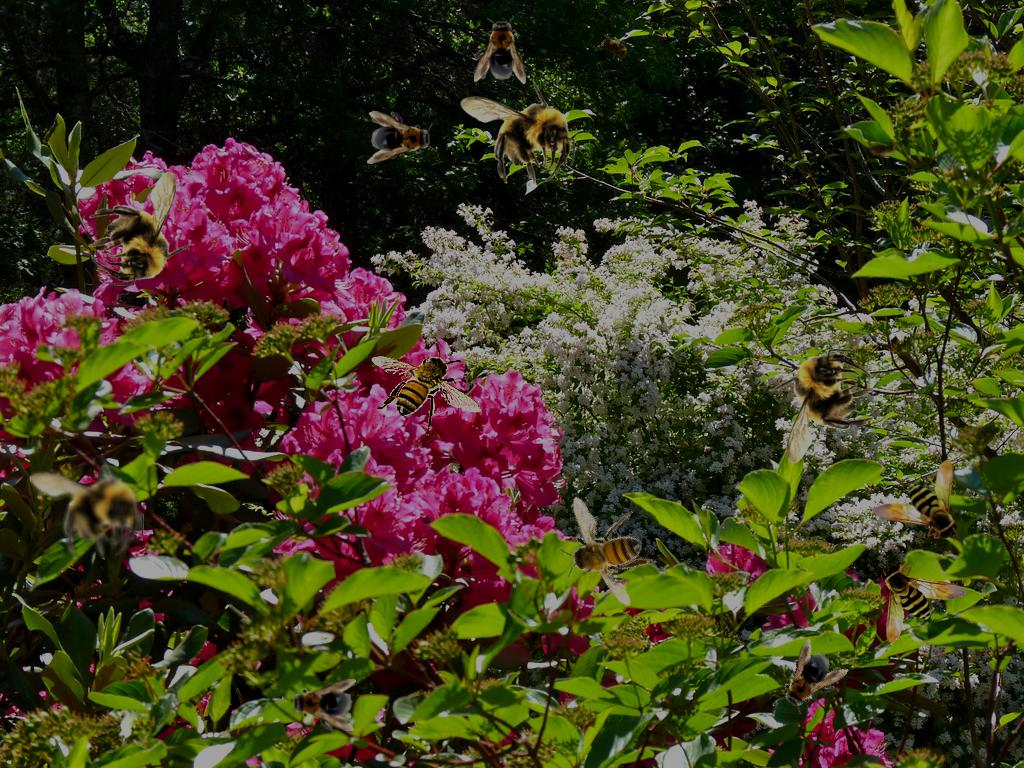Bee: (531, 476, 678, 620), (88, 171, 195, 286), (29, 453, 144, 560), (460, 78, 575, 185), (768, 349, 875, 464), (371, 342, 482, 436), (767, 638, 851, 724), (872, 460, 960, 542), (879, 561, 967, 643), (366, 110, 436, 164), (474, 16, 526, 84), (288, 679, 356, 731), (592, 28, 638, 70), (862, 137, 902, 159)
